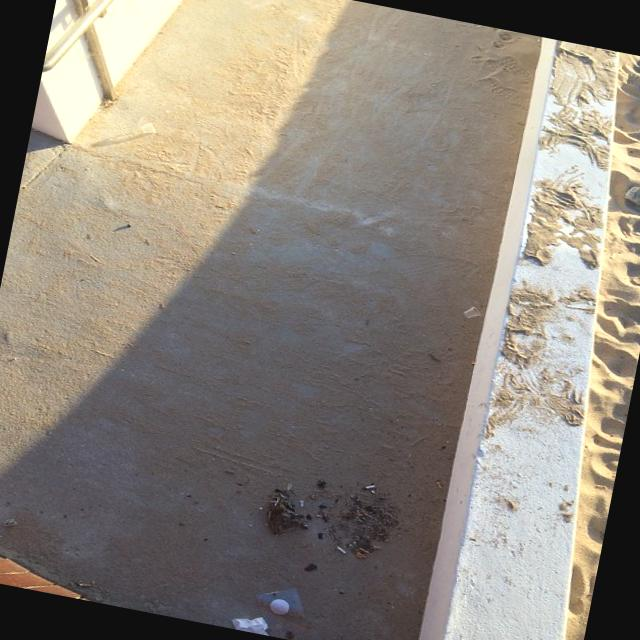Trash: (231, 458, 436, 588), (222, 563, 326, 638)
